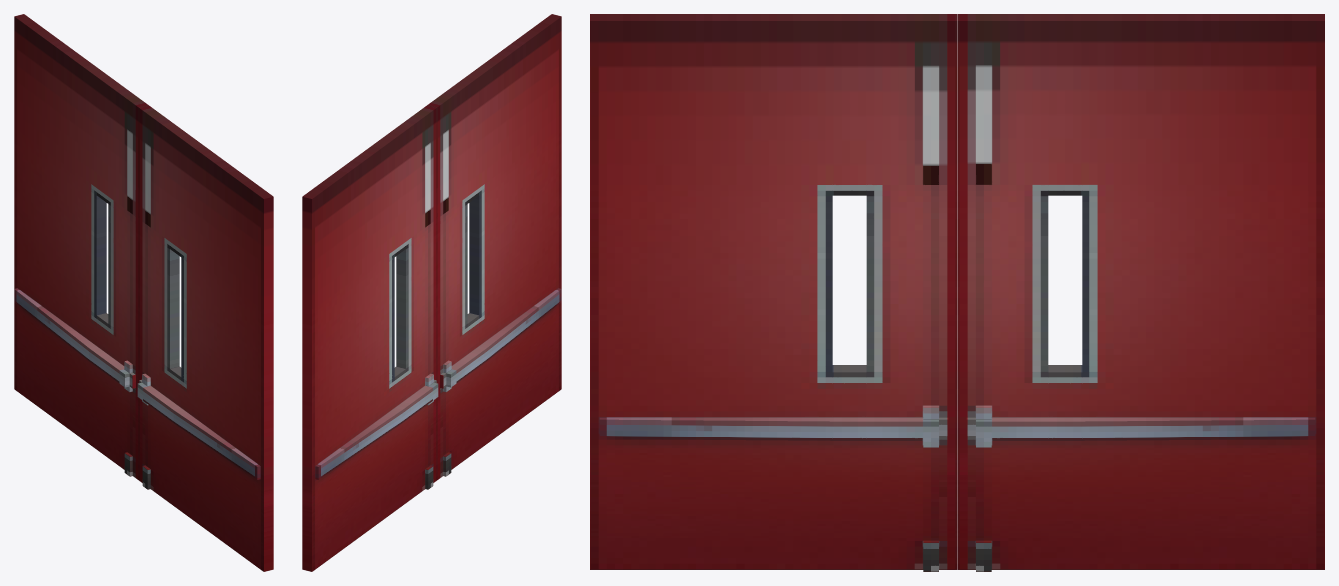
Rendered from PuertasdeBodegaMap2.fbx.
3 views of the same model, side by side, from view 1: azimuth 30°, elevation 25°; view 2: azimuth 150°, elevation 25°; view 3: azimuth 270°, elevation 25° (orthographic). The views are drawn at different scales.
Visible parts, largest first — view 1: Plane.003, Plane.004; view 2: Plane.004, Plane.003; view 3: Plane.003, Plane.004.
Boxes of the visible parts, x1,y1,x2,y2 form: Plane.003: (137,105,273,571); Plane.004: (14,14,148,480); Plane.004: (302,105,438,571); Plane.003: (427,14,561,480); Plane.003: (590,14,957,571); Plane.004: (957,14,1324,571).
Bounding box in the file's own units: 28.15 × 433 × 526.
Materials: 1 (1 with a texture image).
